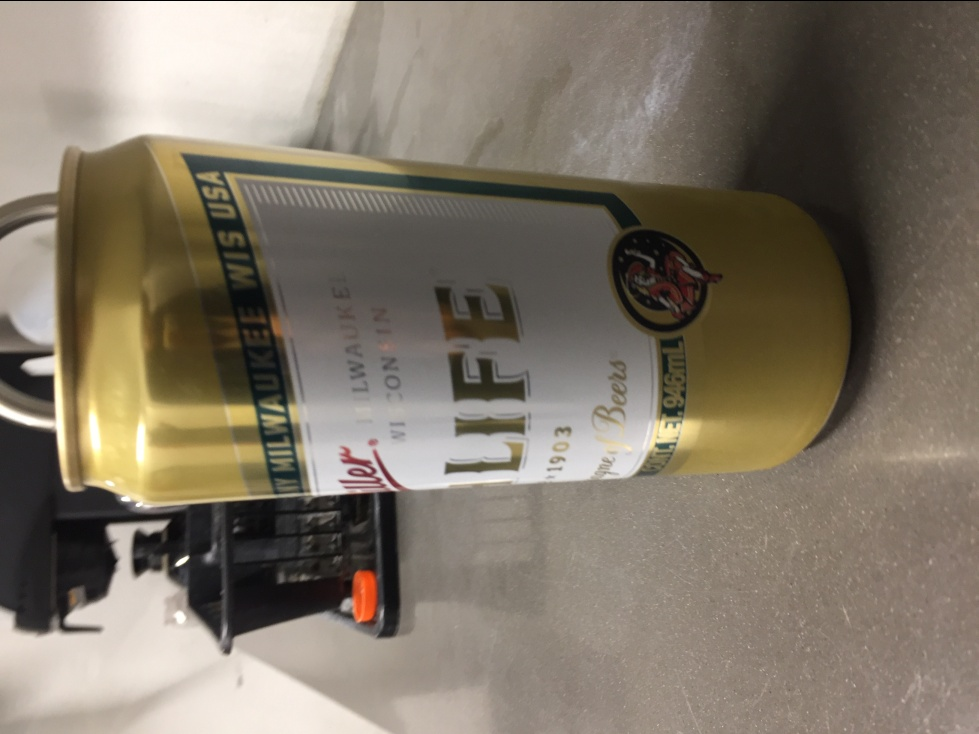miller: (45, 124, 854, 513)
